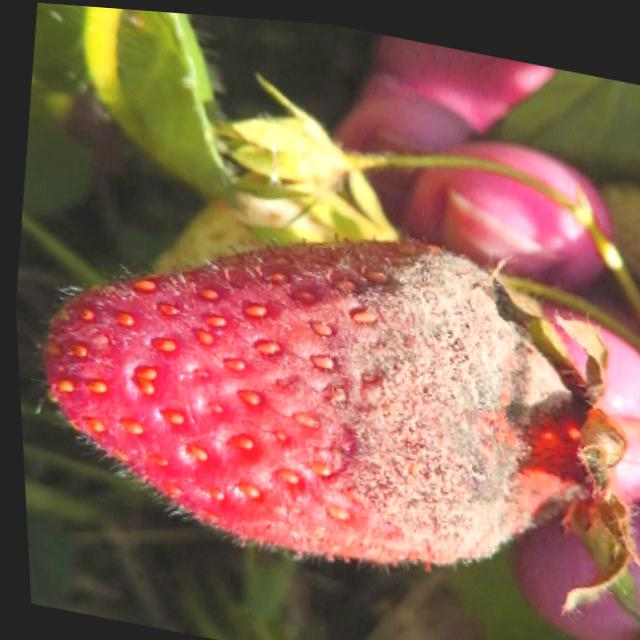Gray Mold: (43, 230, 636, 562)
